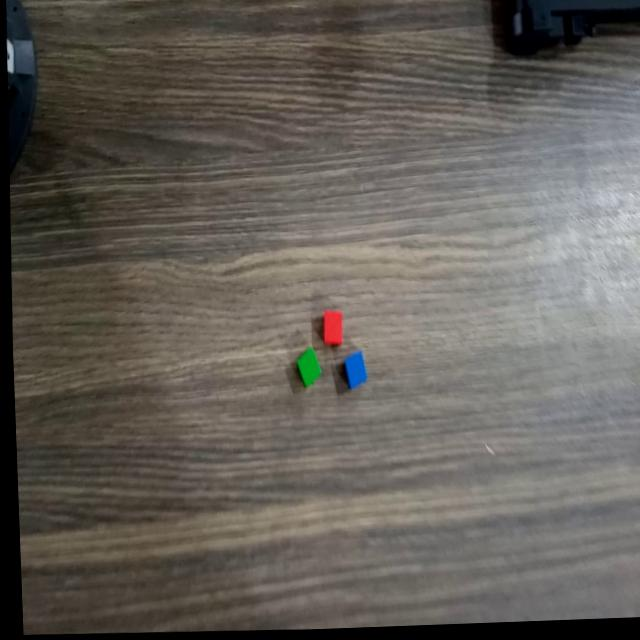cube: (289, 343, 319, 393), (338, 349, 367, 395), (317, 309, 342, 351)
